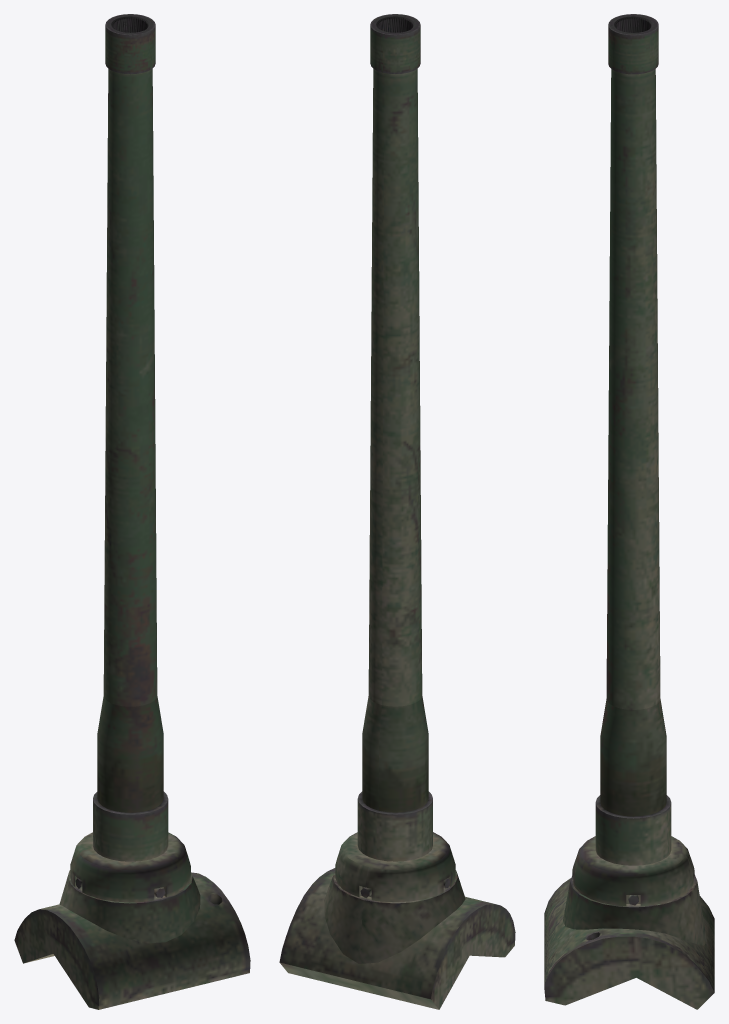
File: Gun_01.glb
3 views of the same model, side by side, from view 1: azimuth 30°, elevation 25°; view 2: azimuth 150°, elevation 25°; view 3: azimuth 270°, elevation 25° (orthographic).
Visible parts, largest first — view 1: set_0_group_0; view 2: set_0_group_0; view 3: set_0_group_0.
Part boxes in pixels (box(x1,y1,x2,y2)): set_0_group_0: box(14, 14, 250, 1009); set_0_group_0: box(279, 14, 515, 1009); set_0_group_0: box(544, 14, 714, 1009).
Bounding box in the file's own units: 0.6028 × 3.59 × 0.5849.
Materials: 1 (1 with a texture image).
